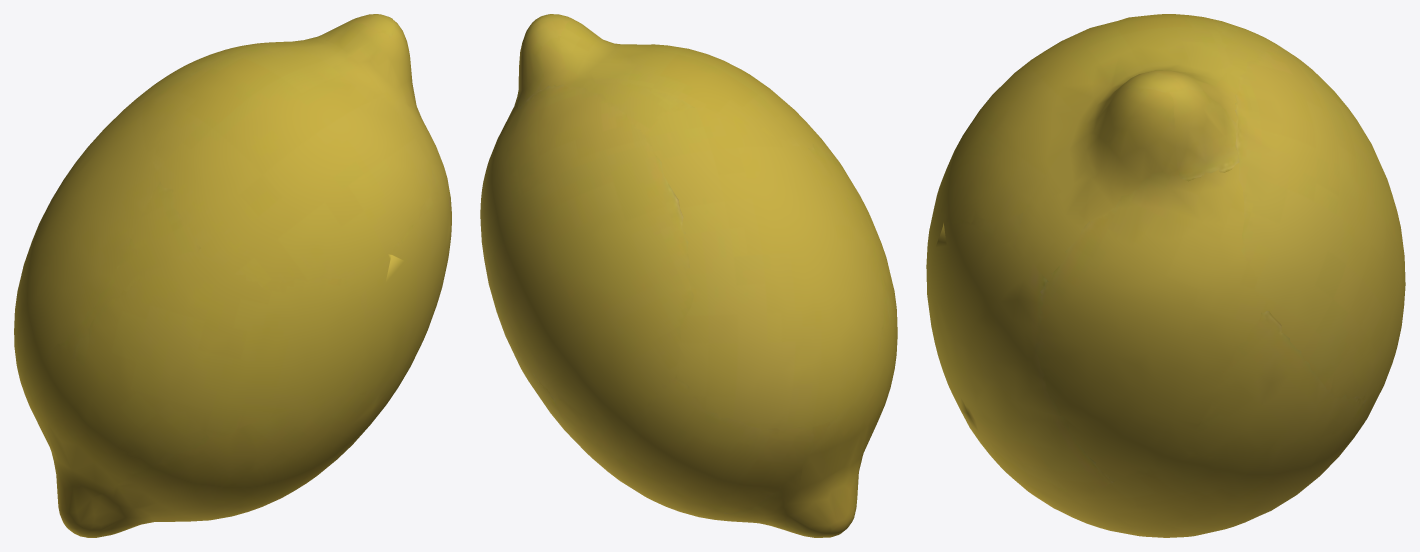
File: lemon.glb
The picture shows the model from 3 angles, left to right: view 1: azimuth 30°, elevation 25°; view 2: azimuth 150°, elevation 25°; view 3: azimuth 270°, elevation 25°; orthographic projection. The views are drawn at different scales.
Parts seen in each view (by area): view 1: material; view 2: material; view 3: material.
Part boxes in pixels (left/top/right/bottom): material: left=14, top=14, right=451, bottom=537; material: left=480, top=14, right=897, bottom=537; material: left=926, top=14, right=1405, bottom=537.
Size of the model in its own units: 0.8717 by 0.9838 by 0.7655.
1 material, 1 textured.
